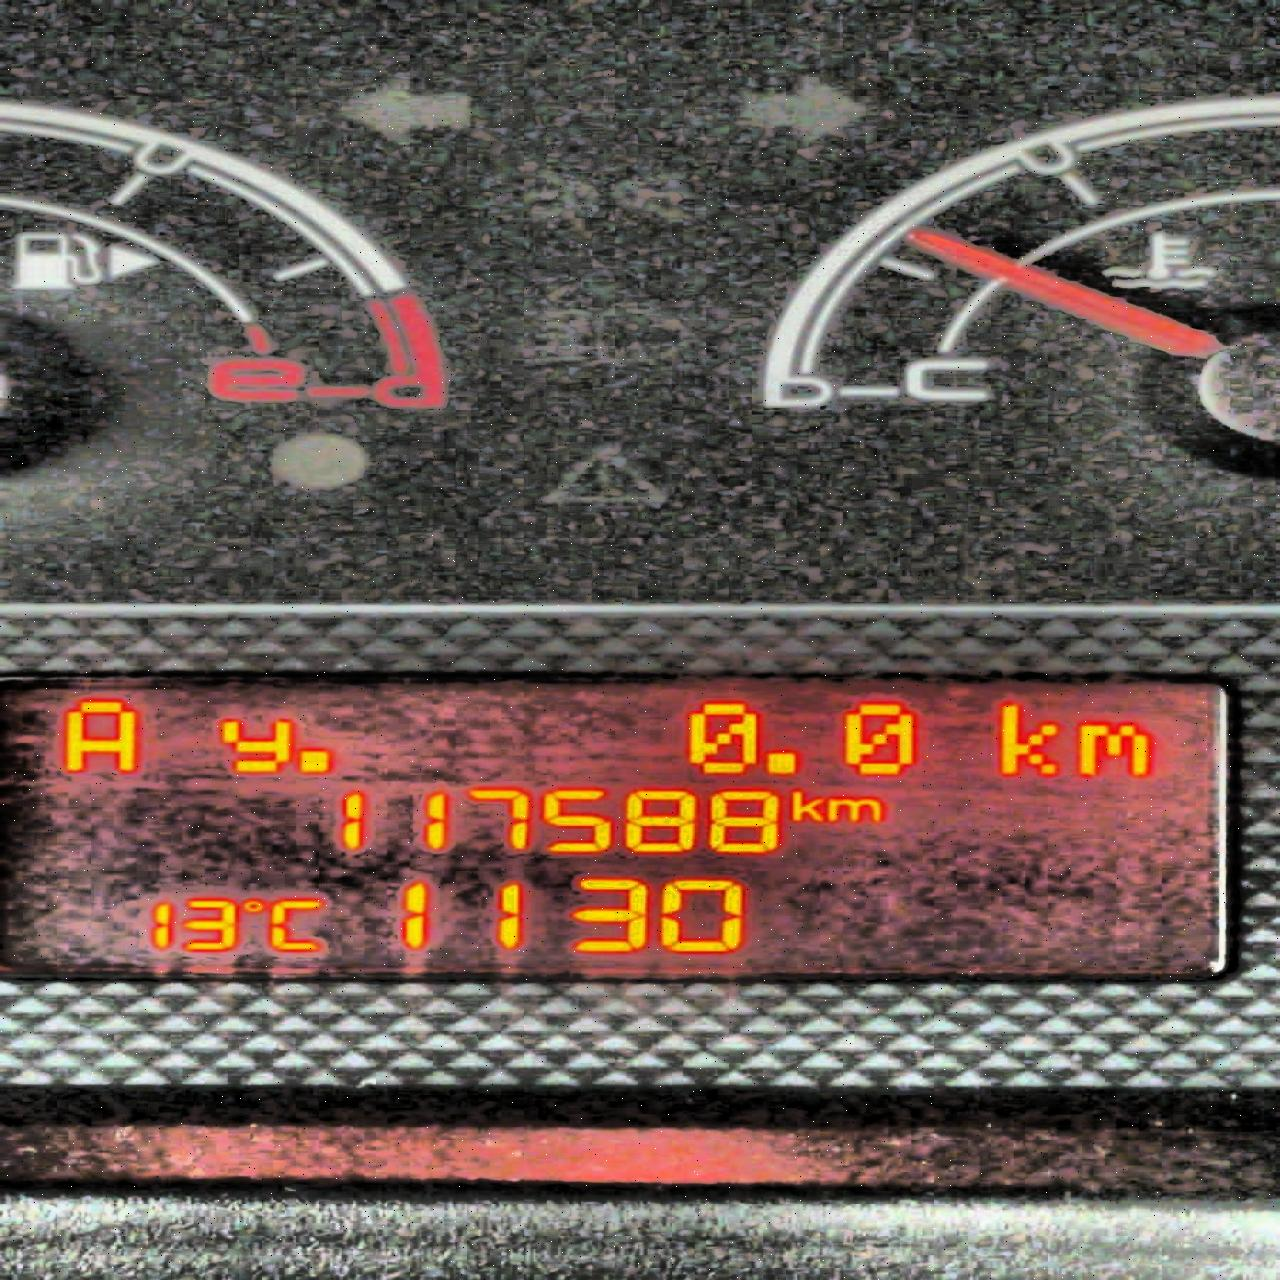-: (292, 742, 336, 775), (761, 748, 802, 778)
0: (654, 873, 751, 955), (832, 696, 921, 779), (679, 695, 760, 779)
1: (484, 873, 533, 953), (389, 876, 437, 953), (328, 783, 374, 855), (415, 787, 456, 856), (142, 897, 177, 952)
3: (563, 874, 651, 955), (181, 896, 237, 955)
5: (539, 783, 615, 857)
7: (458, 781, 532, 853)
8: (621, 785, 700, 855), (708, 785, 781, 856)
X: (54, 695, 142, 776), (988, 695, 1062, 781), (1067, 715, 1153, 781), (212, 713, 292, 775), (266, 893, 328, 954), (824, 794, 885, 826), (790, 781, 824, 825)
odometer: (0, 659, 1257, 996)
